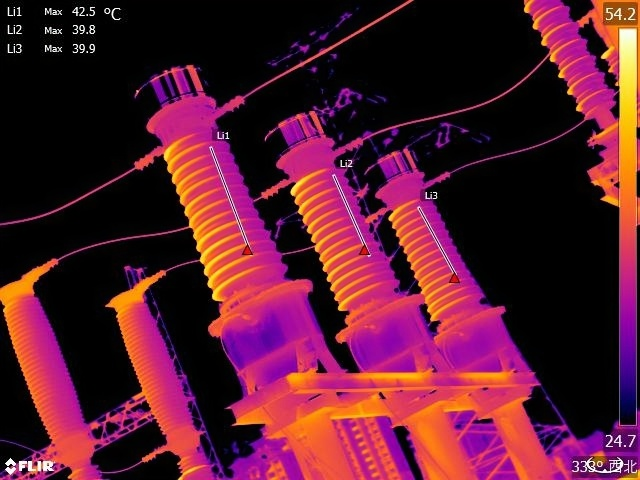circuit breaker: (105, 270, 215, 480), (1, 275, 112, 480)
current transformer: (122, 43, 324, 377), (265, 99, 437, 370), (365, 138, 521, 364)
post insulator: (518, 1, 612, 113)
